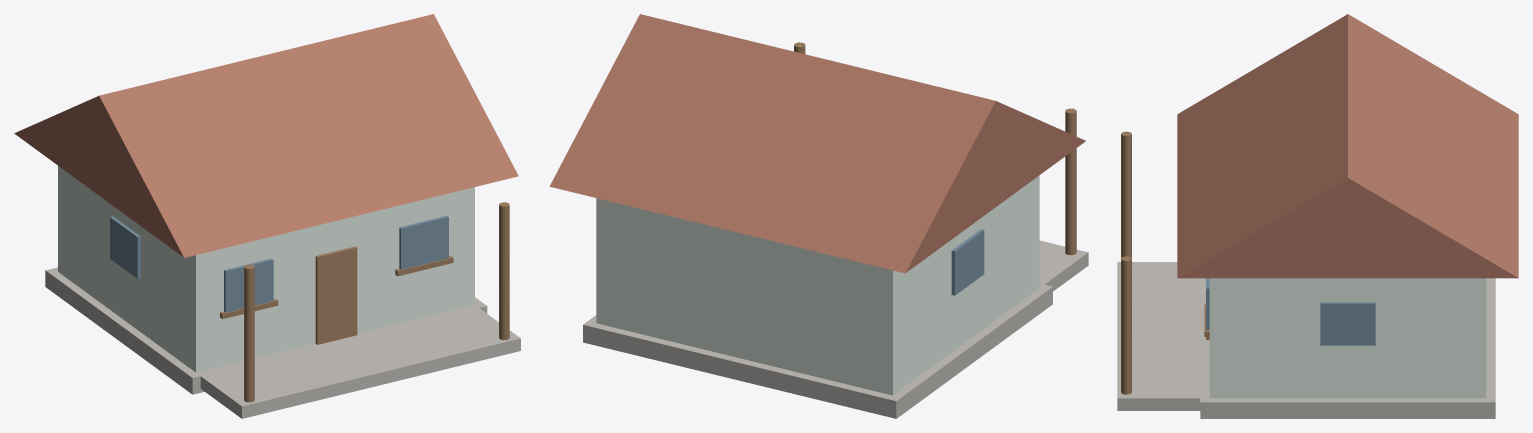
The model's file is house_b.glb.
3 renders of one model, left to right at view 1: azimuth 30°, elevation 25°; view 2: azimuth 150°, elevation 25°; view 3: azimuth 270°, elevation 25°, orthographic. The views are drawn at different scales.
Parts seen in each view (by area): view 1: House; view 2: House; view 3: House.
Part boxes in pixels (x1,y1,x2,y2): House: (14, 14, 520, 418); House: (549, 14, 1088, 418); House: (1117, 14, 1518, 418).
Size of the model in its own units: 8.4 by 6 by 8.7.
